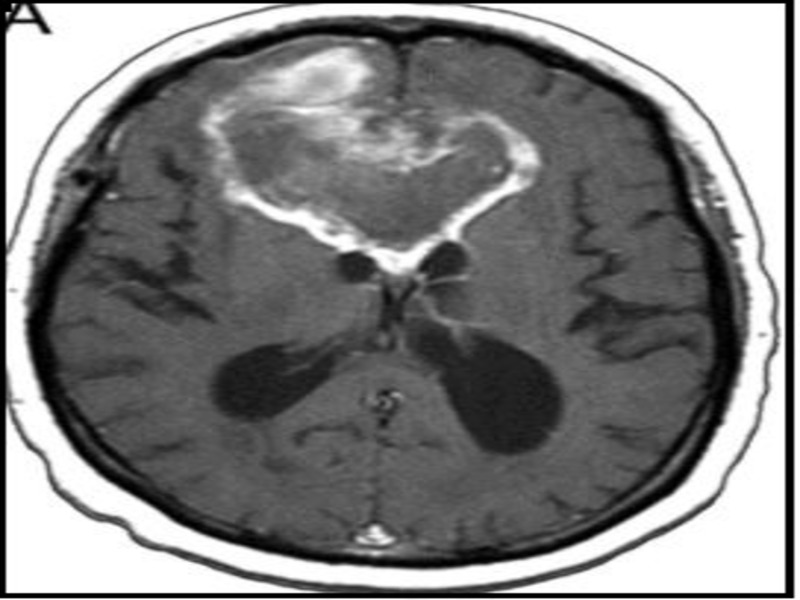tumor: (250, 42, 393, 147)
